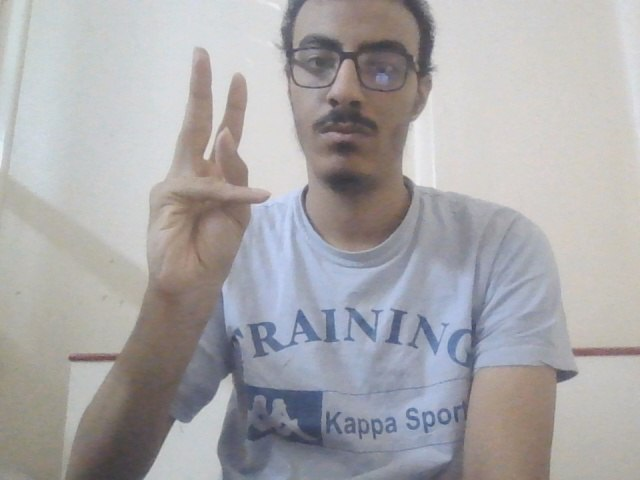Water: (138, 40, 279, 307)
